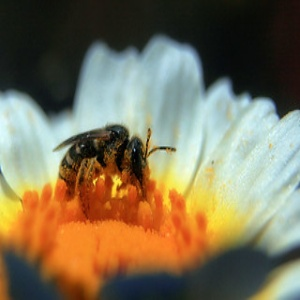bee: (52, 121, 183, 228)
